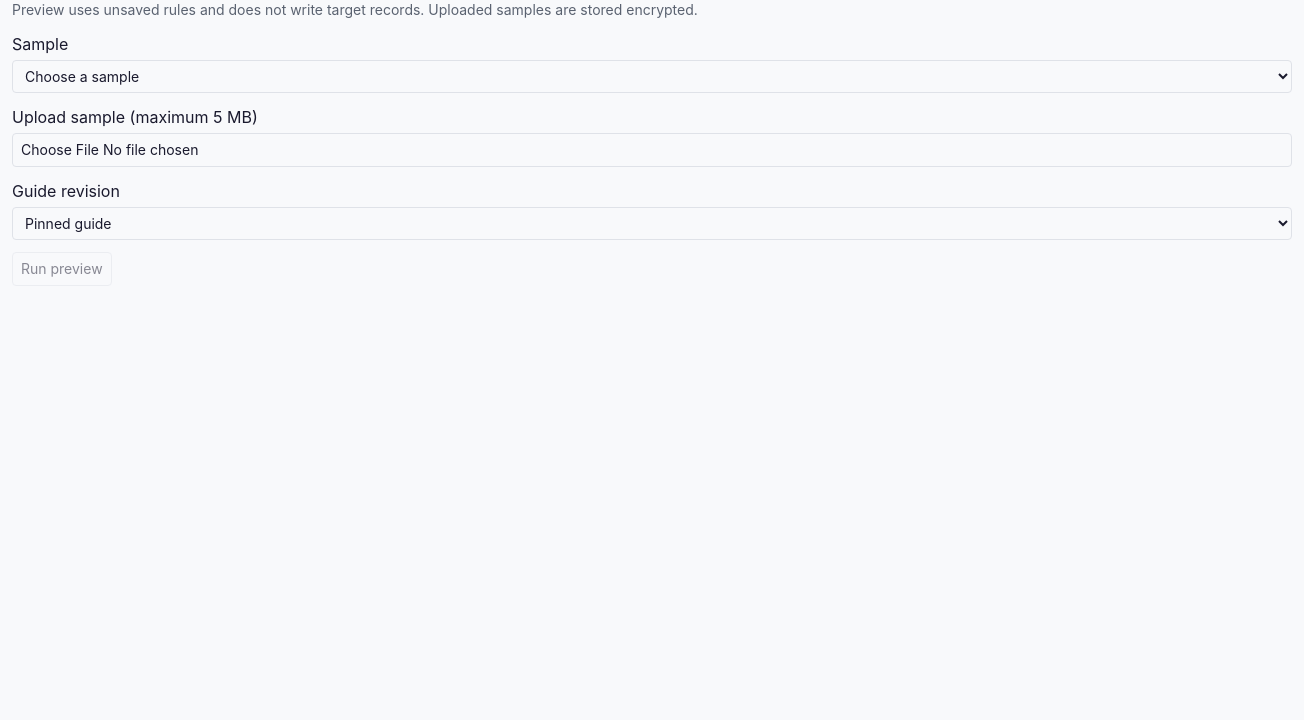
Test: previews the complete unsaved rule override set and shows parse, findings, ack and diffs
The image size is (1304, 720).
Select "Synthetic purchase order" in the dropdown labelled "Sample" at coordinates (652, 76), box [12,60,1292,93]
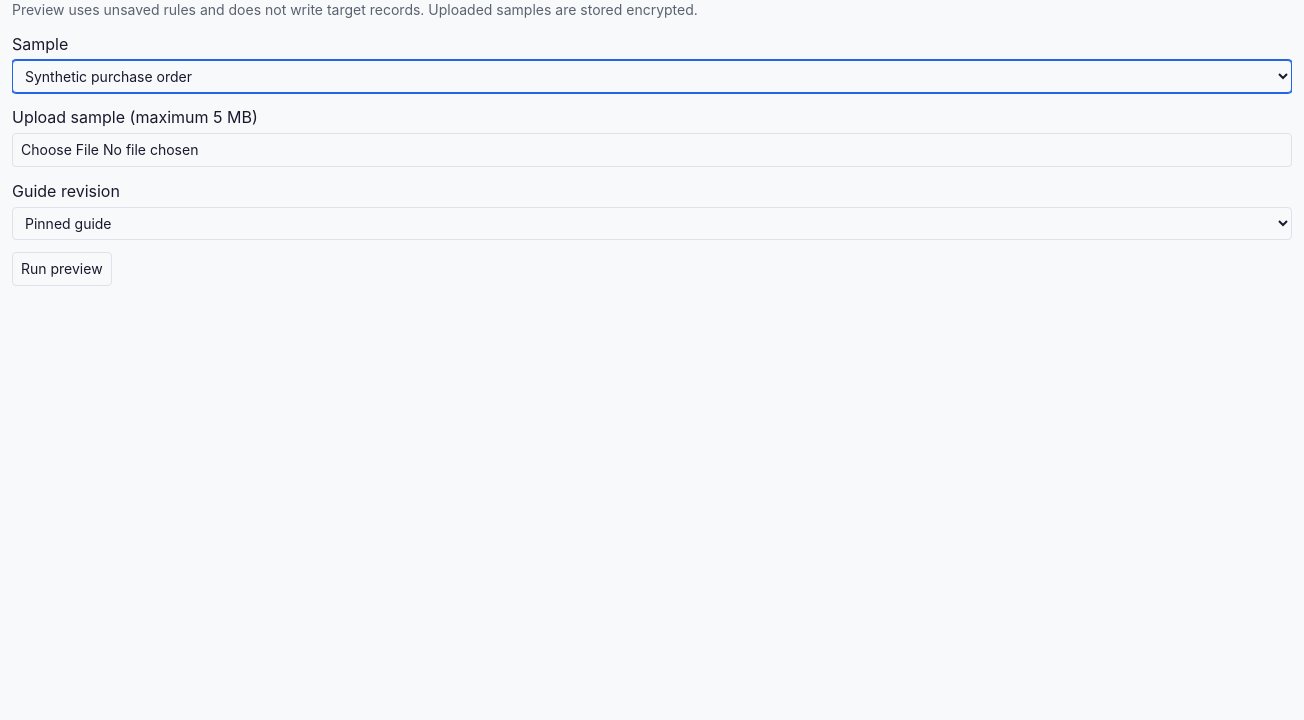
Click the button "Run preview" at coordinates (62, 269), box [12,252,112,286]
(page scrolled)
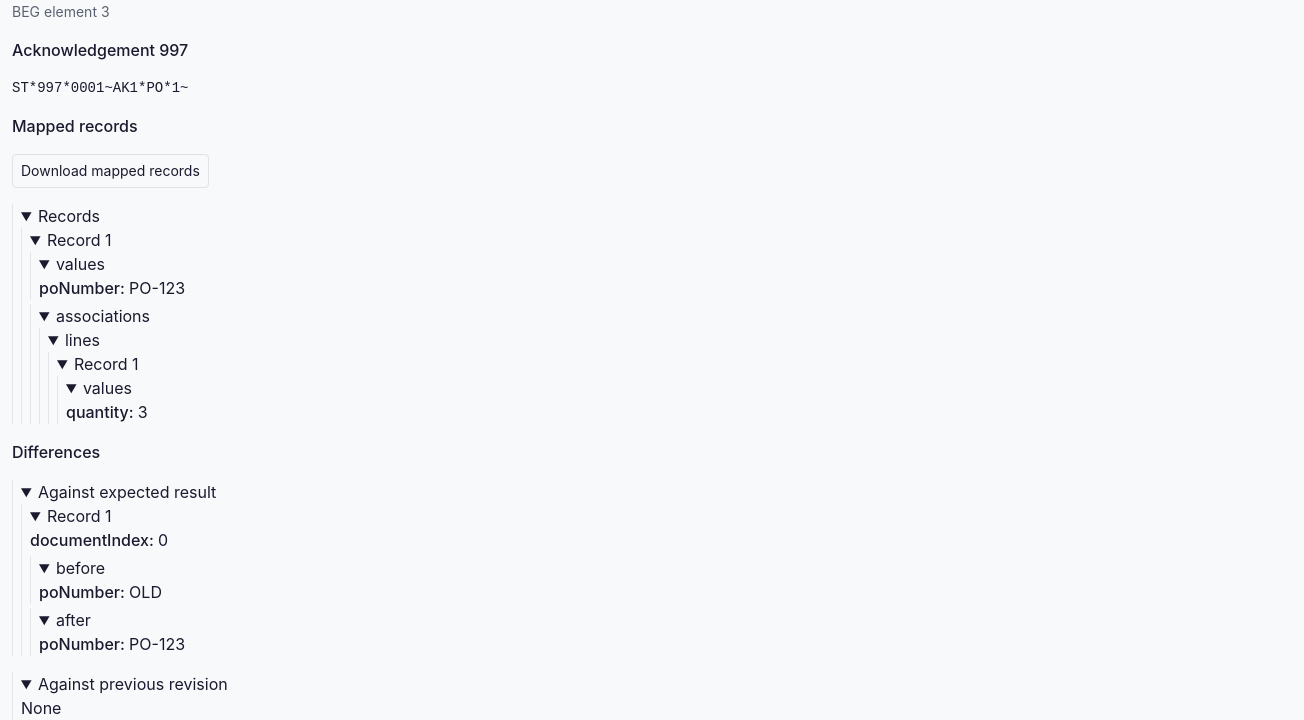
Now the text "ST*997*0001~AK1*PO*1~" is shown, box [12,80,188,96]
Now the heading "Against expected result" is shown, box [38,482,216,502]
